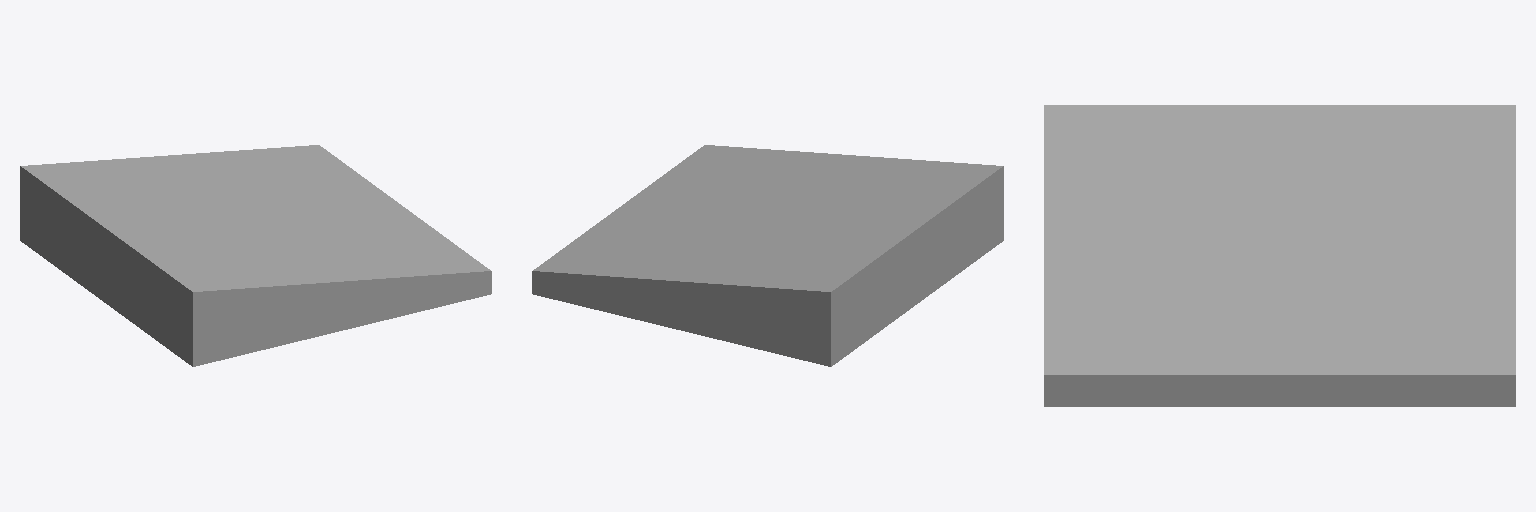
The robot description file, URDF, robot "40x40_10deg":
<?xml version='1.0' encoding='utf-8'?>
<robot name="40x40_10deg">
  <link name="base_link">
    <inertial>
      <origin xyz="0.0 0.0 0.0" rpy="0 0 0" />
      <mass value="1" />
      <inertia ixx="0.001" ixy="0" ixz="0" iyy="0.001" iyz="0" izz="0.001" />
    </inertial>
    <visual>
      <origin xyz="0 0 0" rpy="0 0 0" />
      <geometry>
        <mesh filename="package://40x40_10deg/meshes/40X40_10deg.stl" scale="1 1 1" />
      </geometry>
      <material name="grey">
        <color rgba="0.7 0.7 0.7 1.0" />
      </material>
    </visual>
    <collision>
      <origin xyz="0 0 0" rpy="0 0 0" />
      <geometry>
        <mesh filename="package://40x40_10deg/meshes/40X40_10deg.stl" scale="1 1 1" />
      </geometry>
    </collision>
  </link>
</robot>

--- What the picture shows (computed from the rendered views, not written in the file) ---
Views: 3 orthographic renders of the robot side by side, from view 1: azimuth 30°, elevation 25°; view 2: azimuth 150°, elevation 25°; view 3: azimuth 270°, elevation 25°.
Model 40x40_10deg with 1 links and 0 joints (none), rooted at base_link, posed all joints at 0.
Visible links, largest first — view 1: base_link; view 2: base_link; view 3: base_link.
Boxes of the visible links, <box> form: base_link: <box>20,145,491,366</box>; base_link: <box>532,145,1003,366</box>; base_link: <box>1044,105,1515,406</box>.
Size in the robot's own frame: 0.4 by 0.4 by 0.096 metres.
1 mesh visuals loaded from 1 distinct referenced files (1 binary STL).